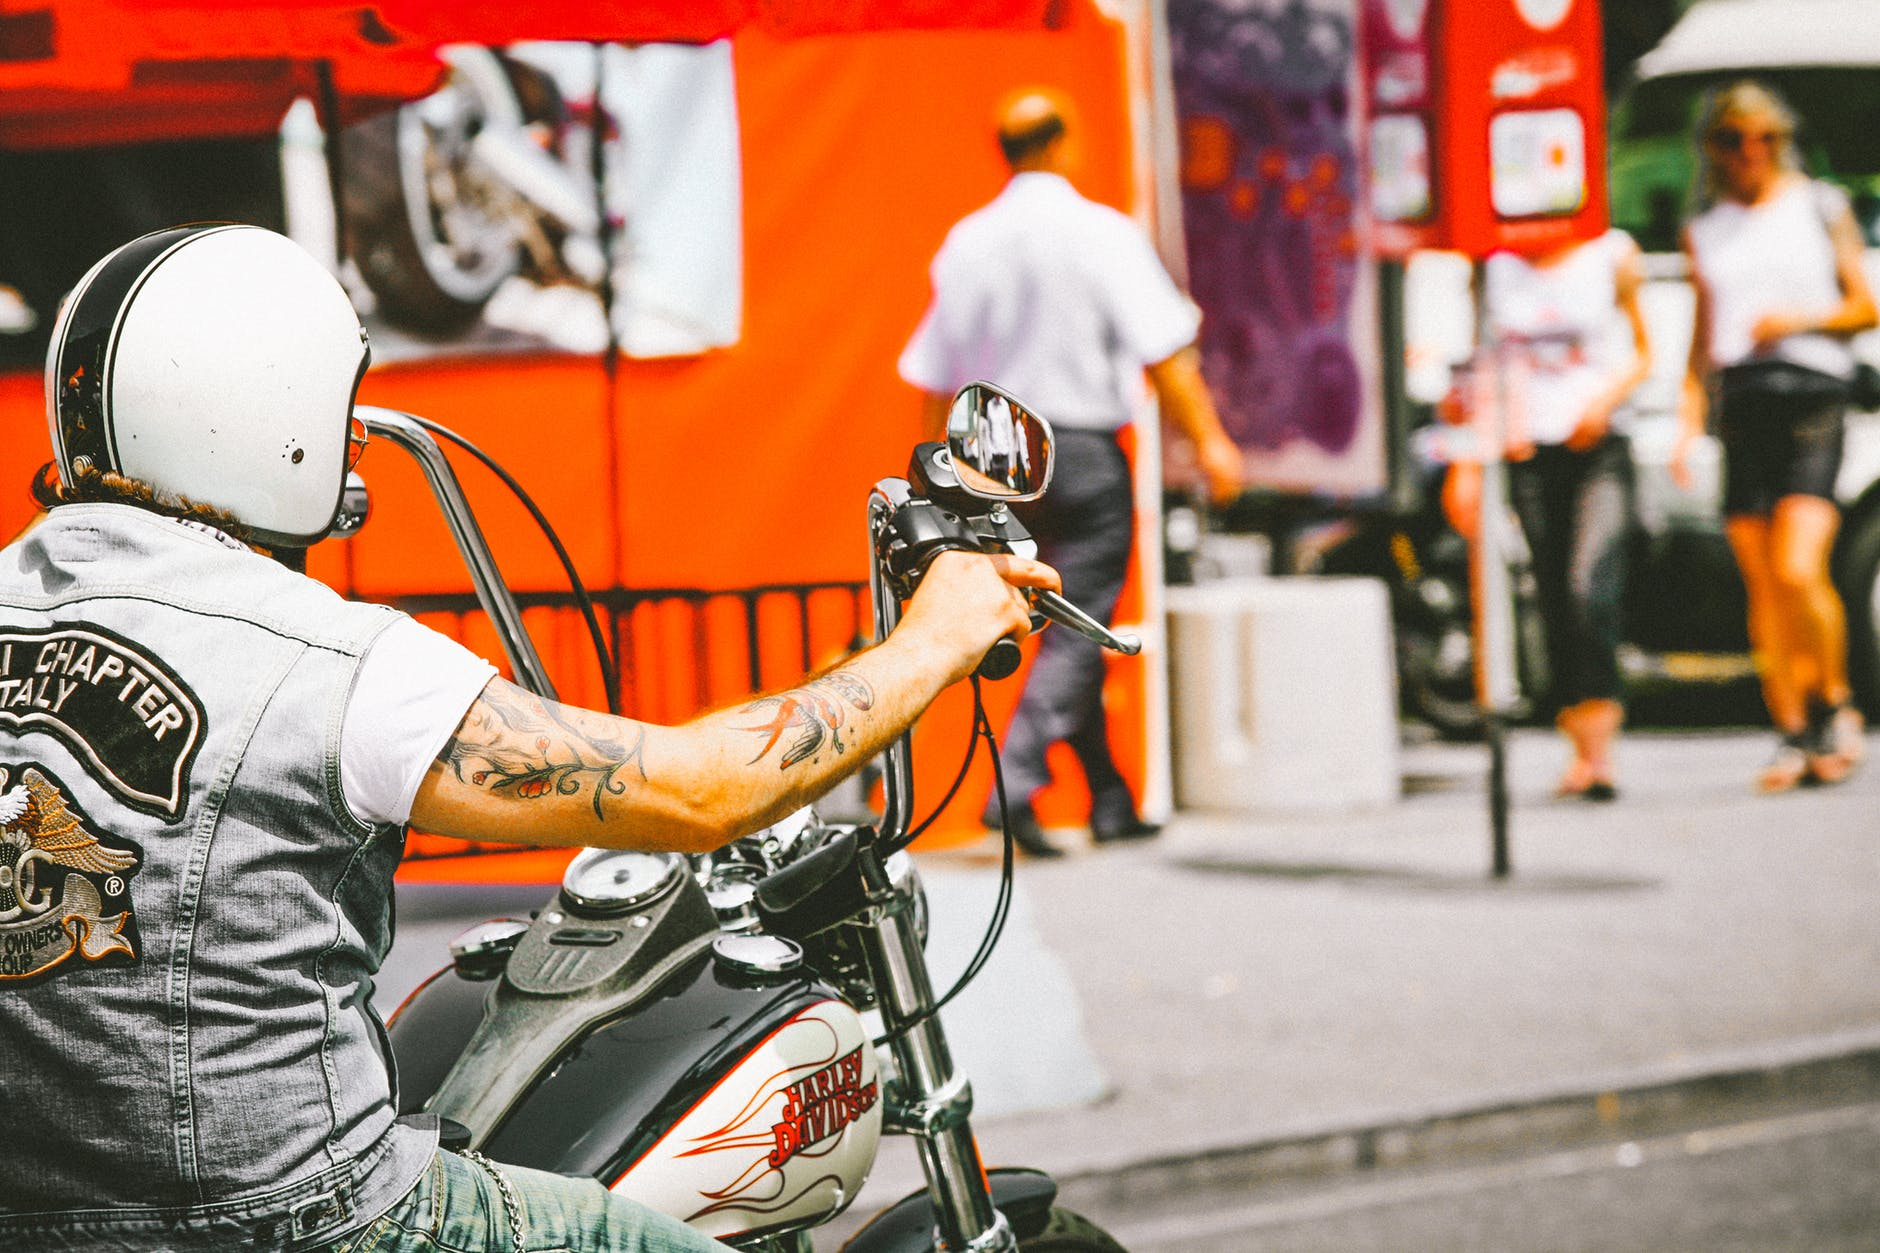helmet: (57, 231, 361, 534)
